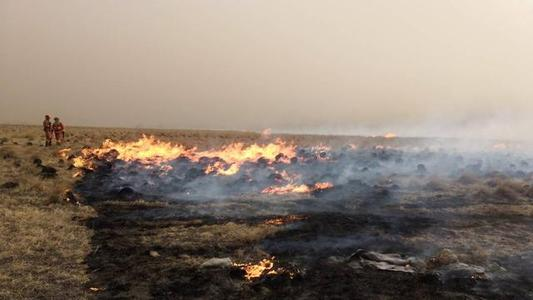fire: (79, 141, 294, 173), (240, 259, 271, 278), (264, 184, 309, 193)
